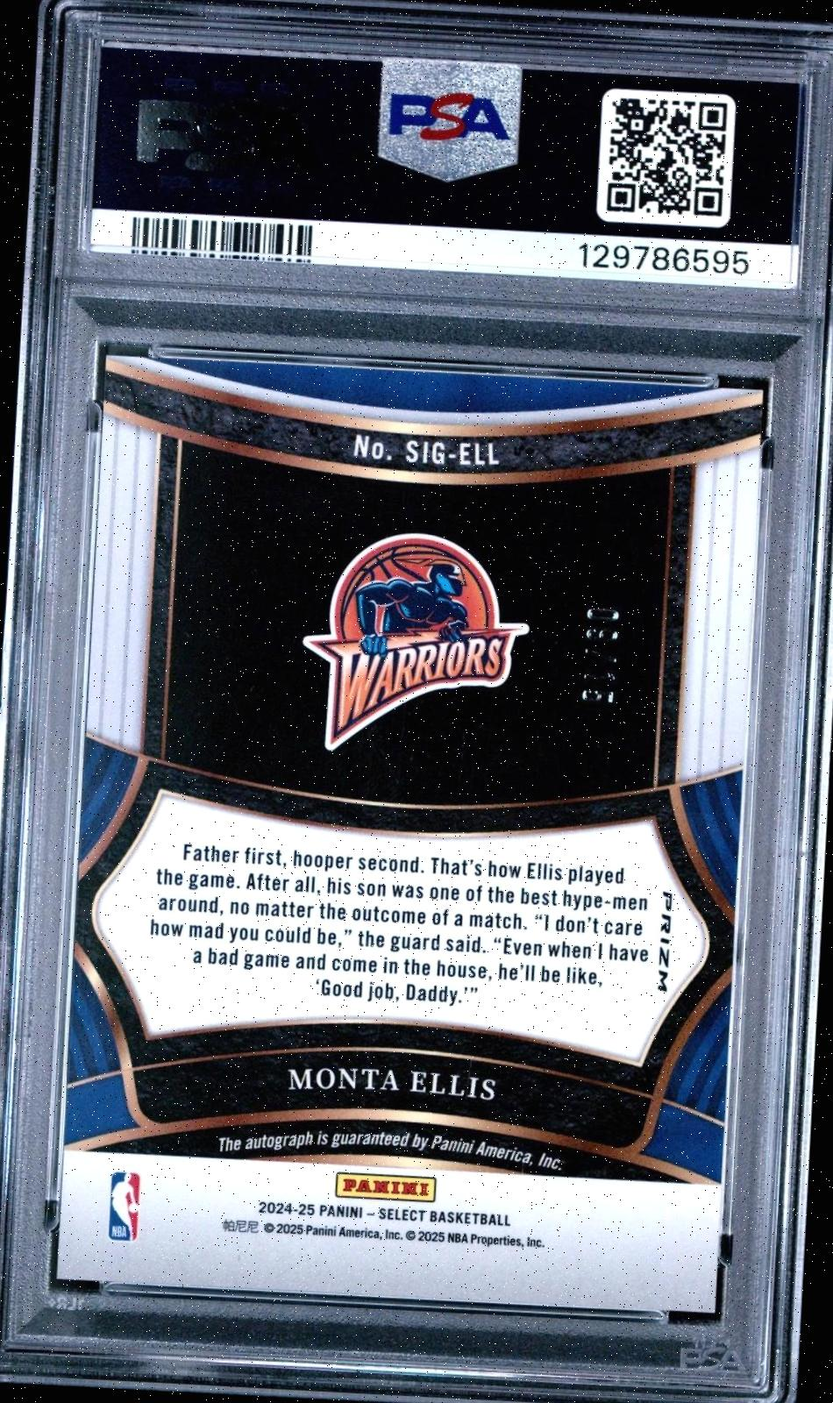card-2UtV: (56, 354, 764, 1313)
